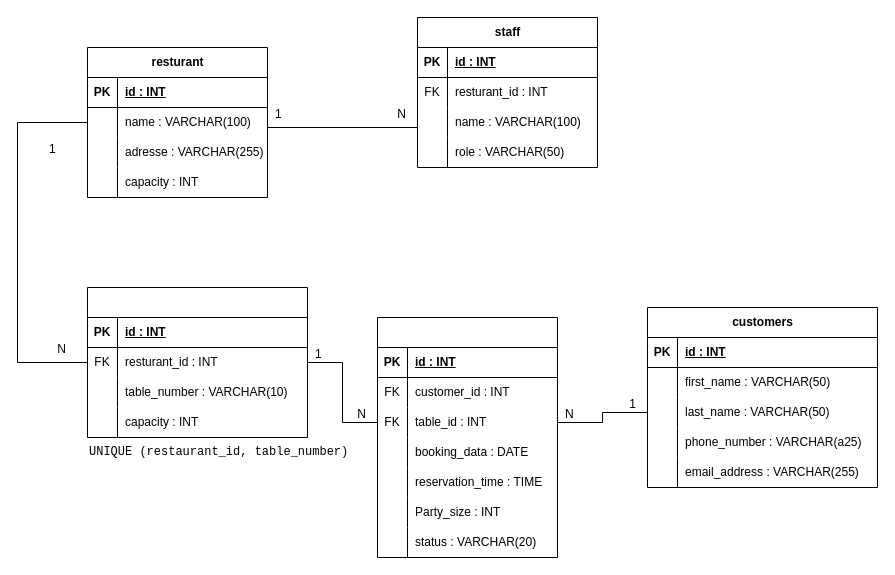
This 895x575 diagram has some shape labels left out. The shapes that lost their labels are listed below. From the top down, each one's box as (x1, y1, x2, y2) in pixels, then its label:
(86, 286, 308, 438): dining_tables
(376, 316, 558, 558): bookings
